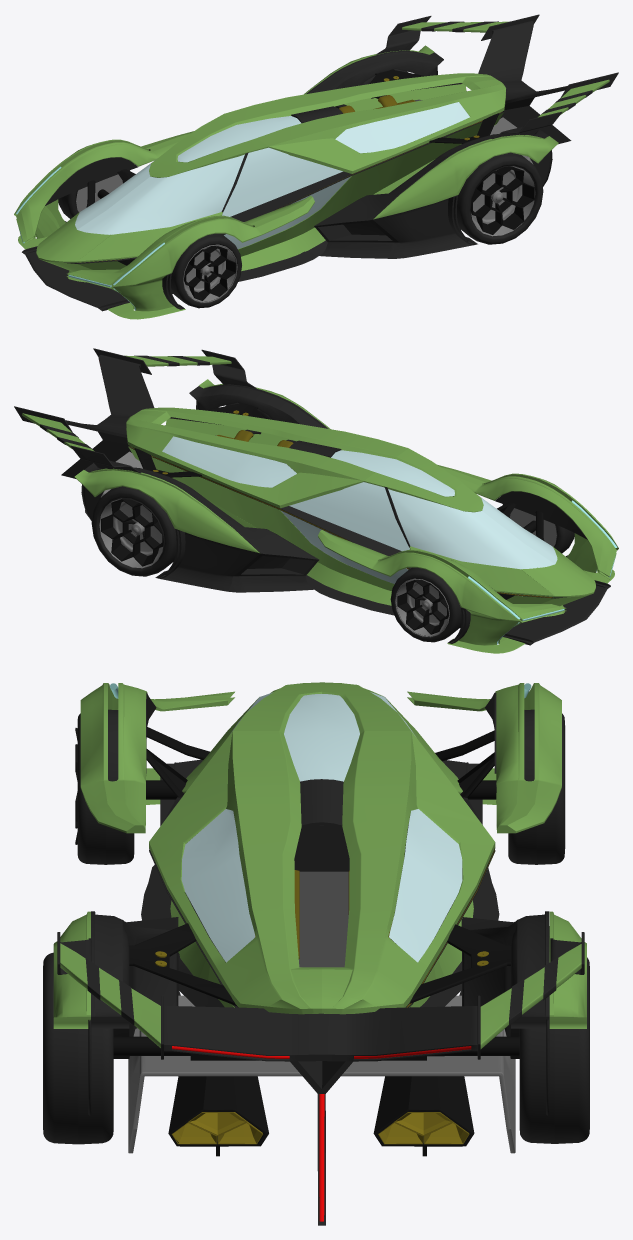
Rendered from Lambo.fbx.
The picture shows the model from 3 angles, top to bottom: view 1: azimuth 30°, elevation 25°; view 2: azimuth 150°, elevation 25°; view 3: azimuth 270°, elevation 25°; orthographic projection. The views are drawn at different scales.
Visible parts, largest first — view 1: pCube75, pCube21, pPlane9, pCube17, pCube58, pCube6, pCube11, pCube8, pPlane2, pPlane5, pCylinder42, pCube67 (+24 smaller); view 2: pCube75, pCube67, pPlane9, pCube58, pCube17, pCube68, pCube8, pCube77, pPlane10, pPlane11, pCube21, pCylinder47 (+25 smaller); view 3: pCube75, pCube8, pCube58, pCube17, pCylinder42, pCylinder47, pPlane11, pPlane5, pCube21, pCube67, pPlane4, pCube42 (+27 smaller).
Part boxes in pixels (bbox=[...]): pCube75: bbox=[149, 73, 505, 177]; pCube21: bbox=[314, 129, 548, 258]; pPlane9: bbox=[75, 154, 244, 234]; pCube17: bbox=[66, 195, 314, 319]; pCube58: bbox=[14, 131, 193, 249]; pCube6: bbox=[373, 134, 558, 219]; pCube11: bbox=[238, 112, 503, 256]; pCube8: bbox=[478, 21, 571, 144]; pPlane2: bbox=[222, 147, 342, 216]; pPlane5: bbox=[335, 102, 469, 153]; pCylinder42: bbox=[457, 152, 543, 244]; pCube67: bbox=[306, 50, 443, 93]; pCube75: bbox=[126, 407, 483, 512]; pCube67: bbox=[84, 463, 319, 592]; pPlane9: bbox=[384, 488, 557, 569]; pCube58: bbox=[318, 530, 566, 653]; pCube17: bbox=[437, 464, 618, 583]; pCube68: bbox=[74, 468, 259, 553]; pCube8: bbox=[61, 355, 154, 478]; pCube77: bbox=[128, 446, 394, 591]; pPlane10: bbox=[289, 482, 409, 551]; pPlane11: bbox=[162, 436, 296, 487]; pCube21: bbox=[189, 384, 328, 428]; pCylinder47: bbox=[91, 486, 176, 576]; pCube75: bbox=[149, 683, 495, 1014]; pCube8: bbox=[164, 1006, 477, 1225]; pCube58: bbox=[407, 683, 561, 833]; pCube17: bbox=[80, 683, 234, 833]; pCylinder42: bbox=[43, 952, 113, 1144]; pCylinder47: bbox=[519, 952, 589, 1143]; pPlane11: bbox=[389, 809, 462, 962]; pPlane5: bbox=[181, 809, 255, 962]; pCube21: bbox=[91, 911, 180, 1058]; pCube67: bbox=[459, 911, 549, 1058]; pPlane4: bbox=[284, 694, 359, 781]; pCube42: bbox=[298, 871, 348, 967].
Size of the model in its own units: 24.61 by 5.07 by 10.79.
